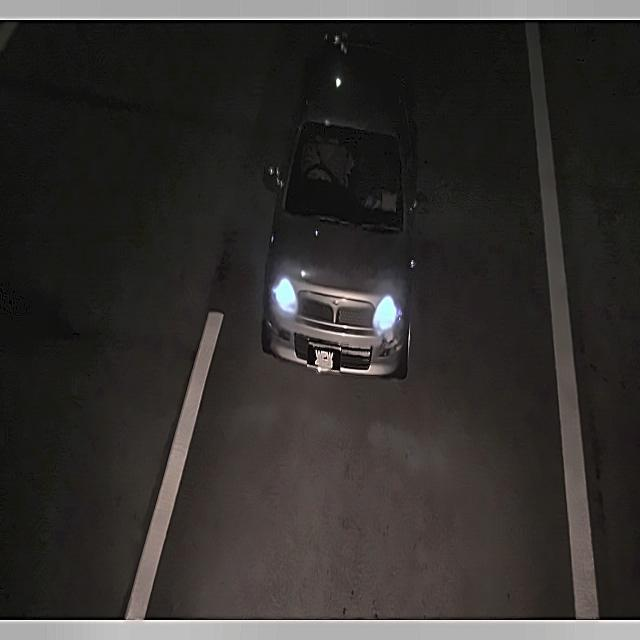car: (309, 344, 338, 373)
